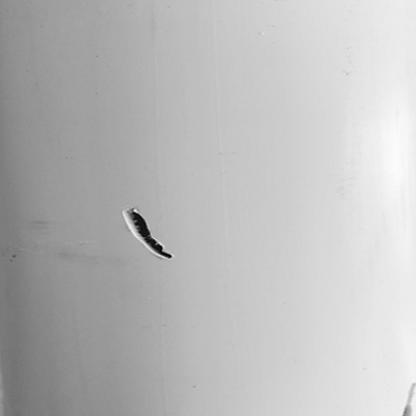kongdong: (121, 201, 180, 260)
